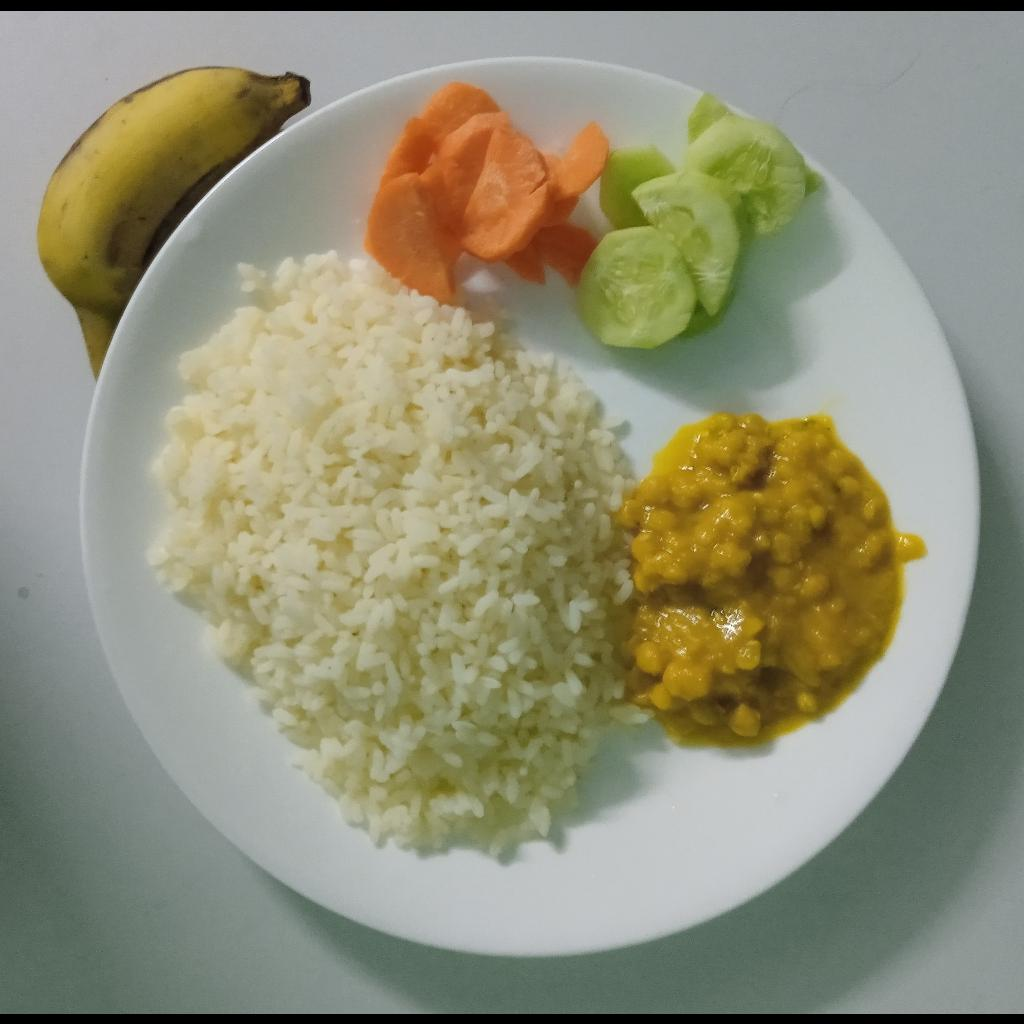banana: (35, 66, 311, 383)
carrot: (362, 79, 610, 296)
cucumber: (574, 88, 826, 349)
daal: (618, 410, 899, 748)
rice: (128, 248, 630, 857)
